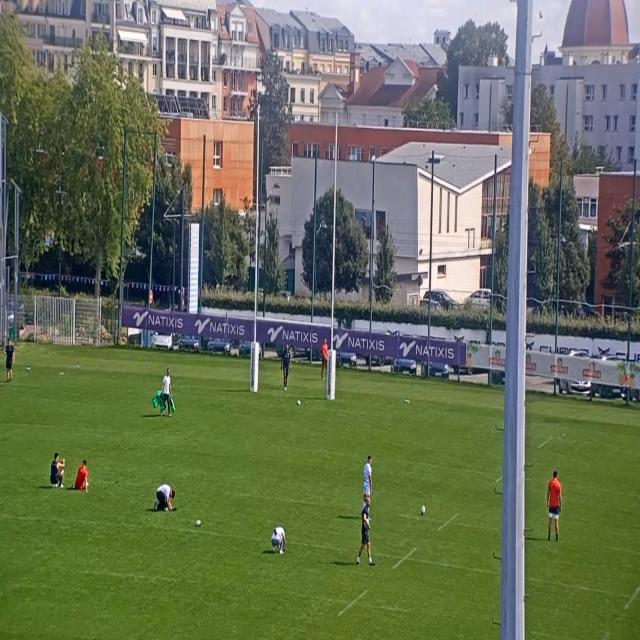rugby ball: (295, 394, 303, 414), (192, 516, 204, 526), (421, 496, 426, 520)
rugby play: (543, 468, 564, 545), (157, 356, 179, 423), (72, 455, 92, 499), (4, 331, 18, 388), (360, 455, 374, 509), (159, 477, 177, 519), (269, 520, 289, 554), (51, 452, 64, 492), (283, 342, 290, 396), (322, 335, 329, 384)
